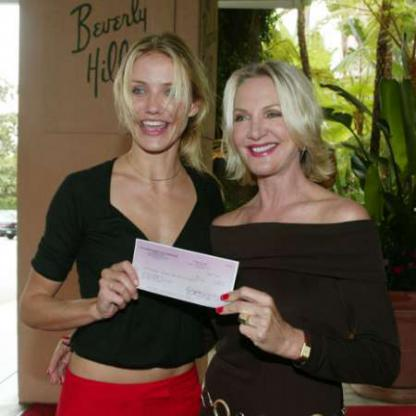face: (122, 36, 193, 155), (229, 66, 301, 177)
